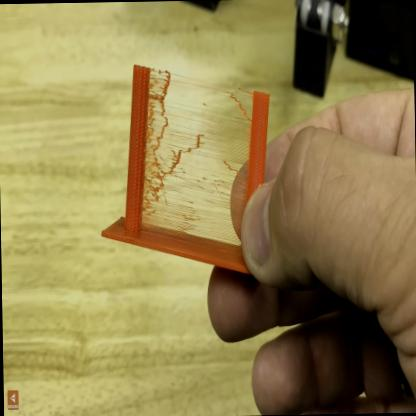fail: (147, 67, 236, 235)
